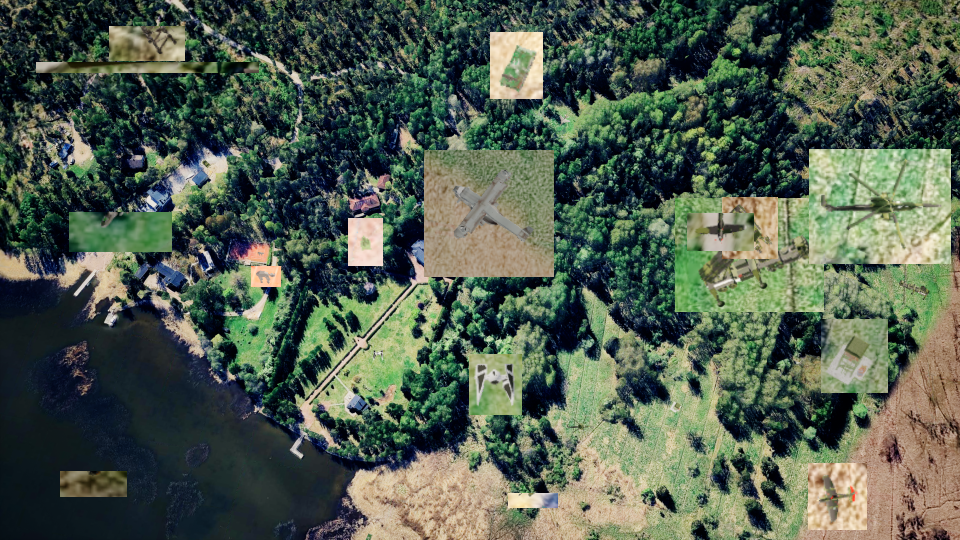condor: (424, 150, 554, 277)
hangar: (36, 62, 259, 73)
helicopter: (809, 149, 951, 264)
jammer: (490, 32, 543, 99)
jet_plane: (69, 212, 172, 252)
large_launcher: (675, 198, 824, 312)
large_tower: (109, 26, 185, 61)
medium_launcher: (60, 471, 127, 497)
medium_plane: (687, 213, 754, 251)
mine_roller: (722, 197, 778, 259)
small_launcher: (348, 218, 383, 266)
small_plane: (808, 463, 867, 530)
small_tower: (821, 319, 888, 393)
spacecraft: (469, 354, 522, 415)
ta-ta: (251, 266, 281, 287)
tank: (508, 493, 558, 508)
